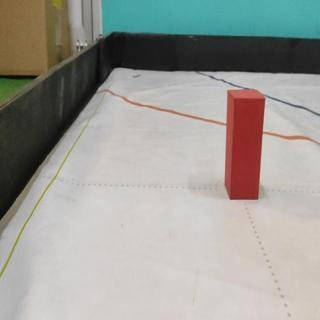redbox: (224, 88, 265, 199)
